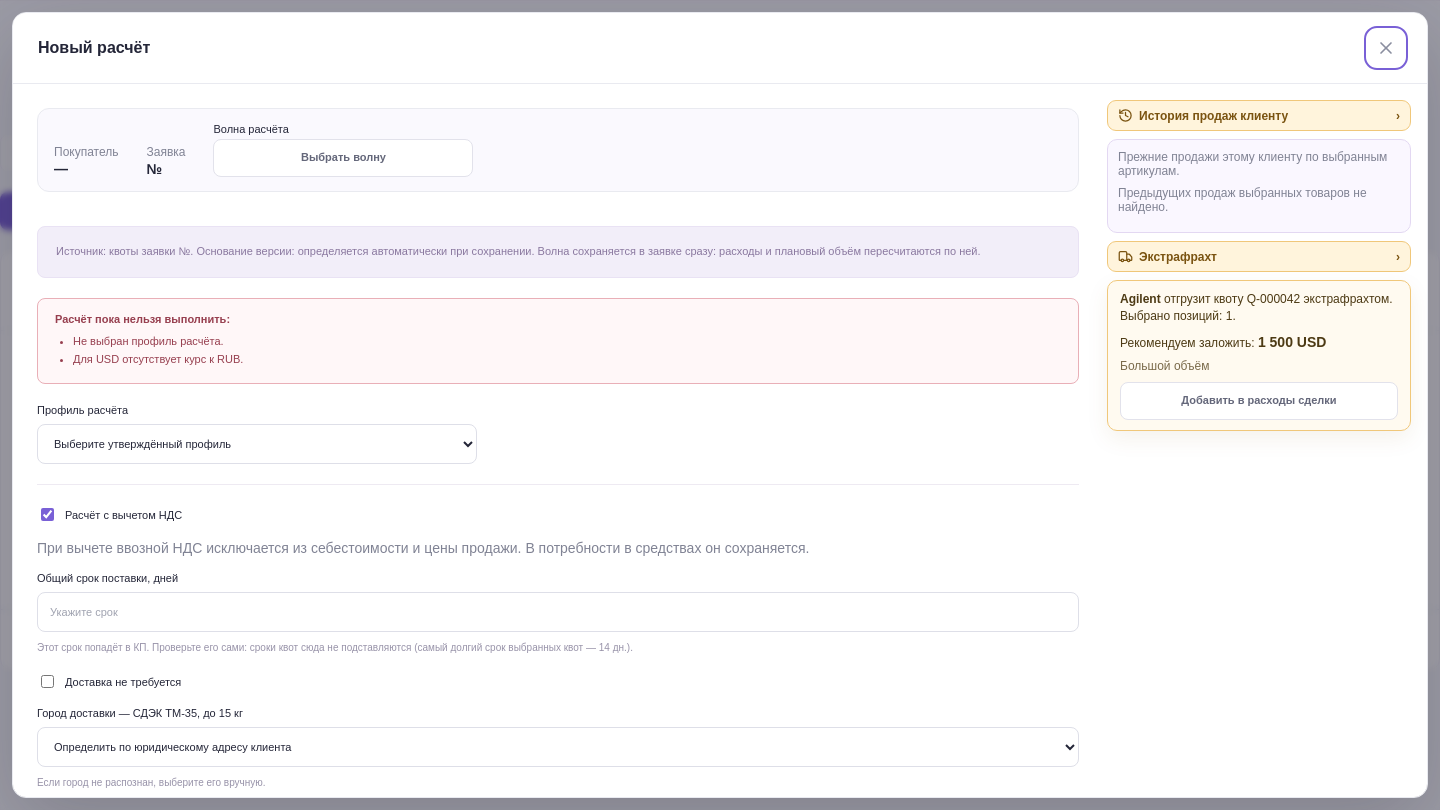
Test: shows the extra freight of the selected quote at the side and adds it to the expenses
The image size is (1440, 810).
Expected: the element "Экстрафрахт" shows "Agilent отгрузит квоту Q-000042 экстрафрахтом", [1107,241,1411,431]
Expected: the element "Экстрафрахт" shows "Рекомендуем заложить: 1 500 USD", [1107,241,1411,431]
Select "Профиль · —" in the dropdown labelled "Профиль расчёта" at (257, 444), box [37,424,477,464]
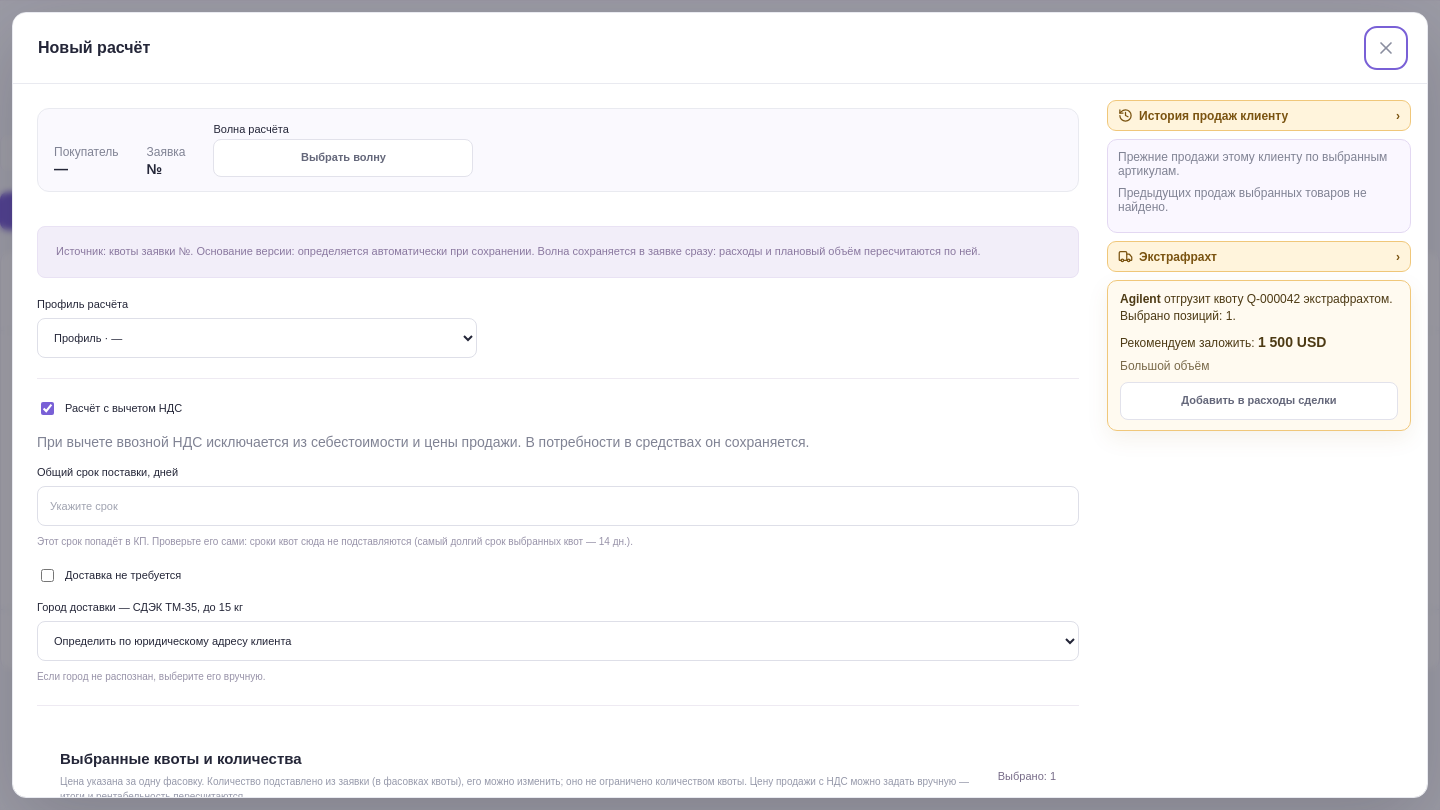
Click the button "Добавить в расходы сделки" at (1259, 401), box [1120,382,1398,420]
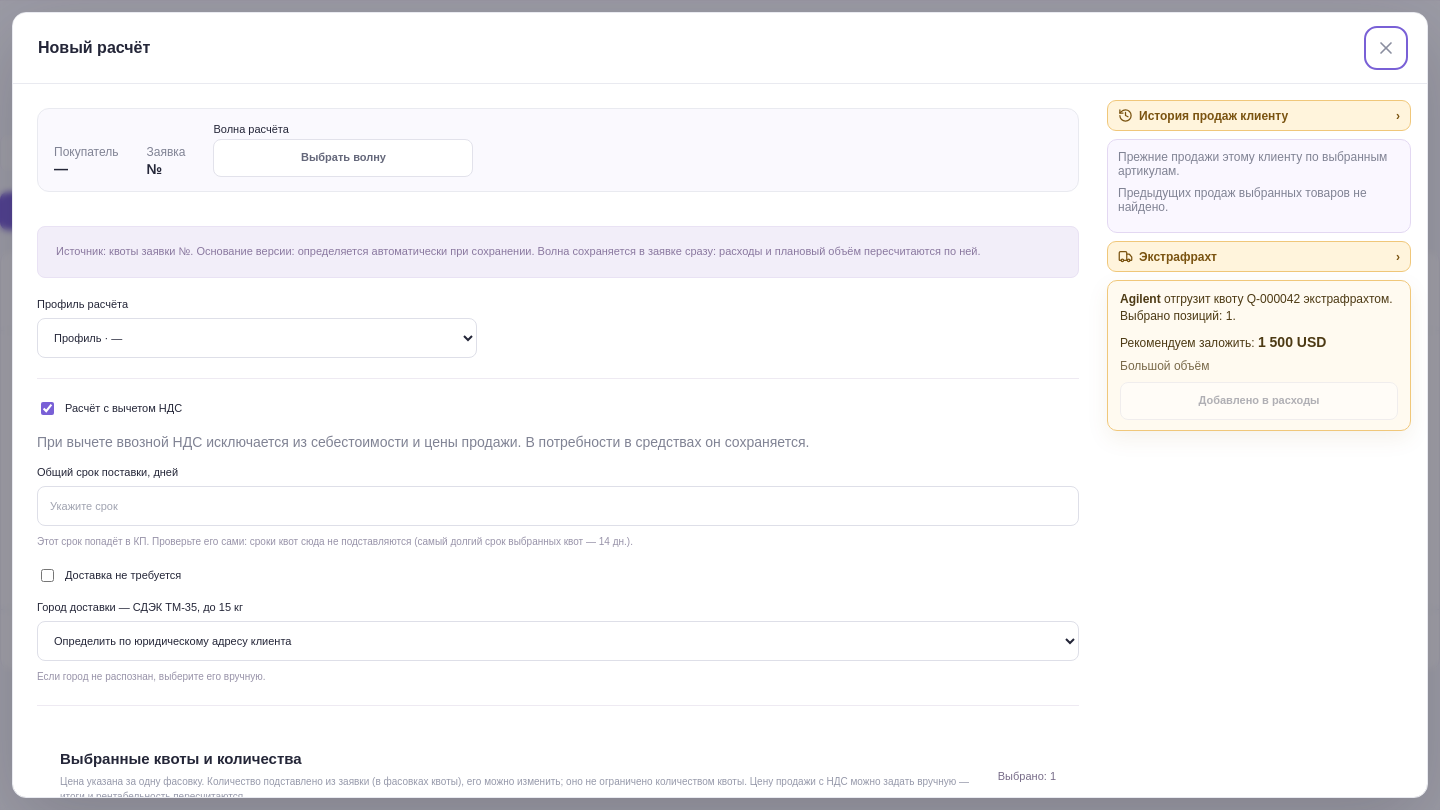
Result: the button "Добавлено в расходы" is disabled at [1120,382,1398,420]
Click the button "Экстрафрахт ›" at (1178, 256), box [1107,241,1411,272]
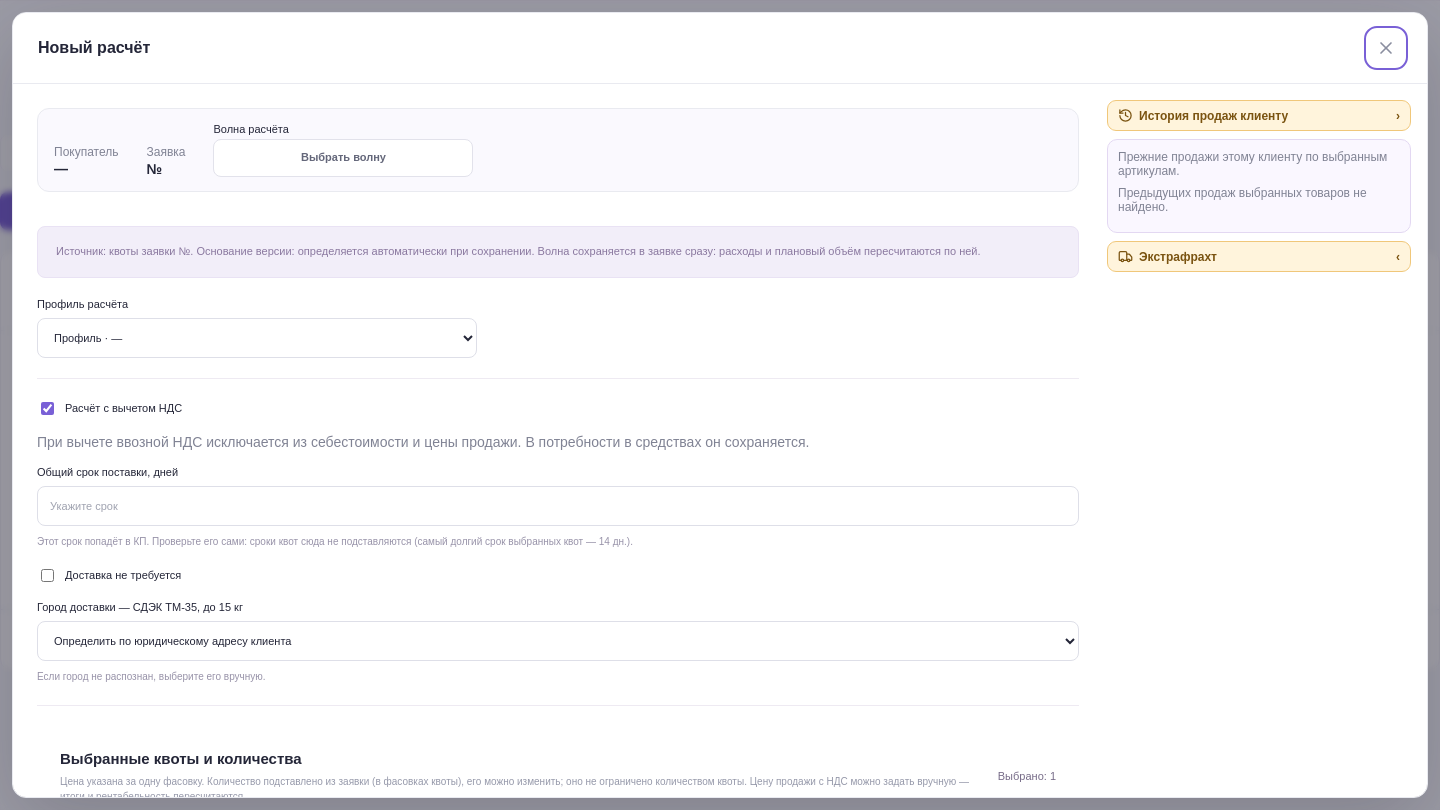
Result: the text "Рекомендуем заложить" is gone
